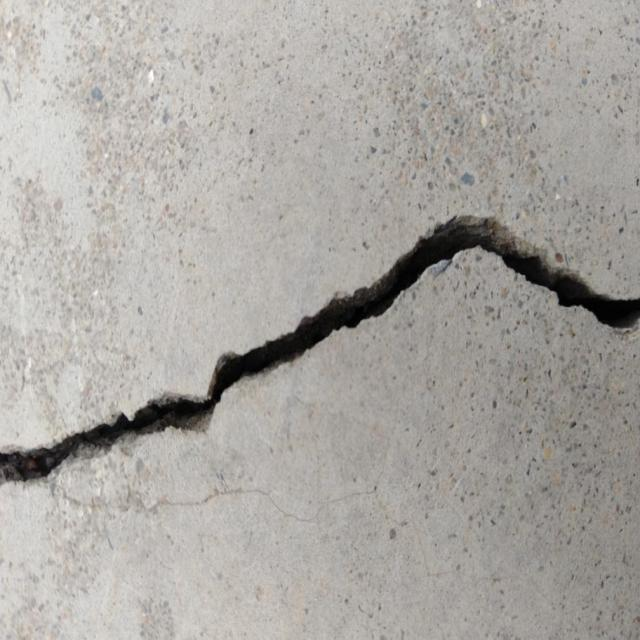diagonal crack: (0, 212, 639, 484)
